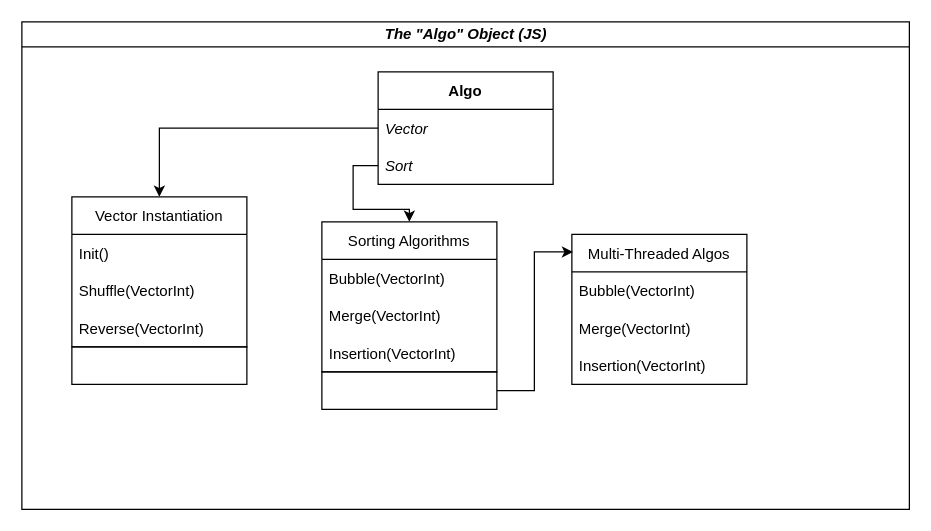
Image size: 931x531. Some labels were removed from this diagram. The centre of each missing label's shape, as x and y in pixels:
"Dupe(VectorInt)" goes at (x=159, y=365).
"Multi:" goes at (x=409, y=390).
